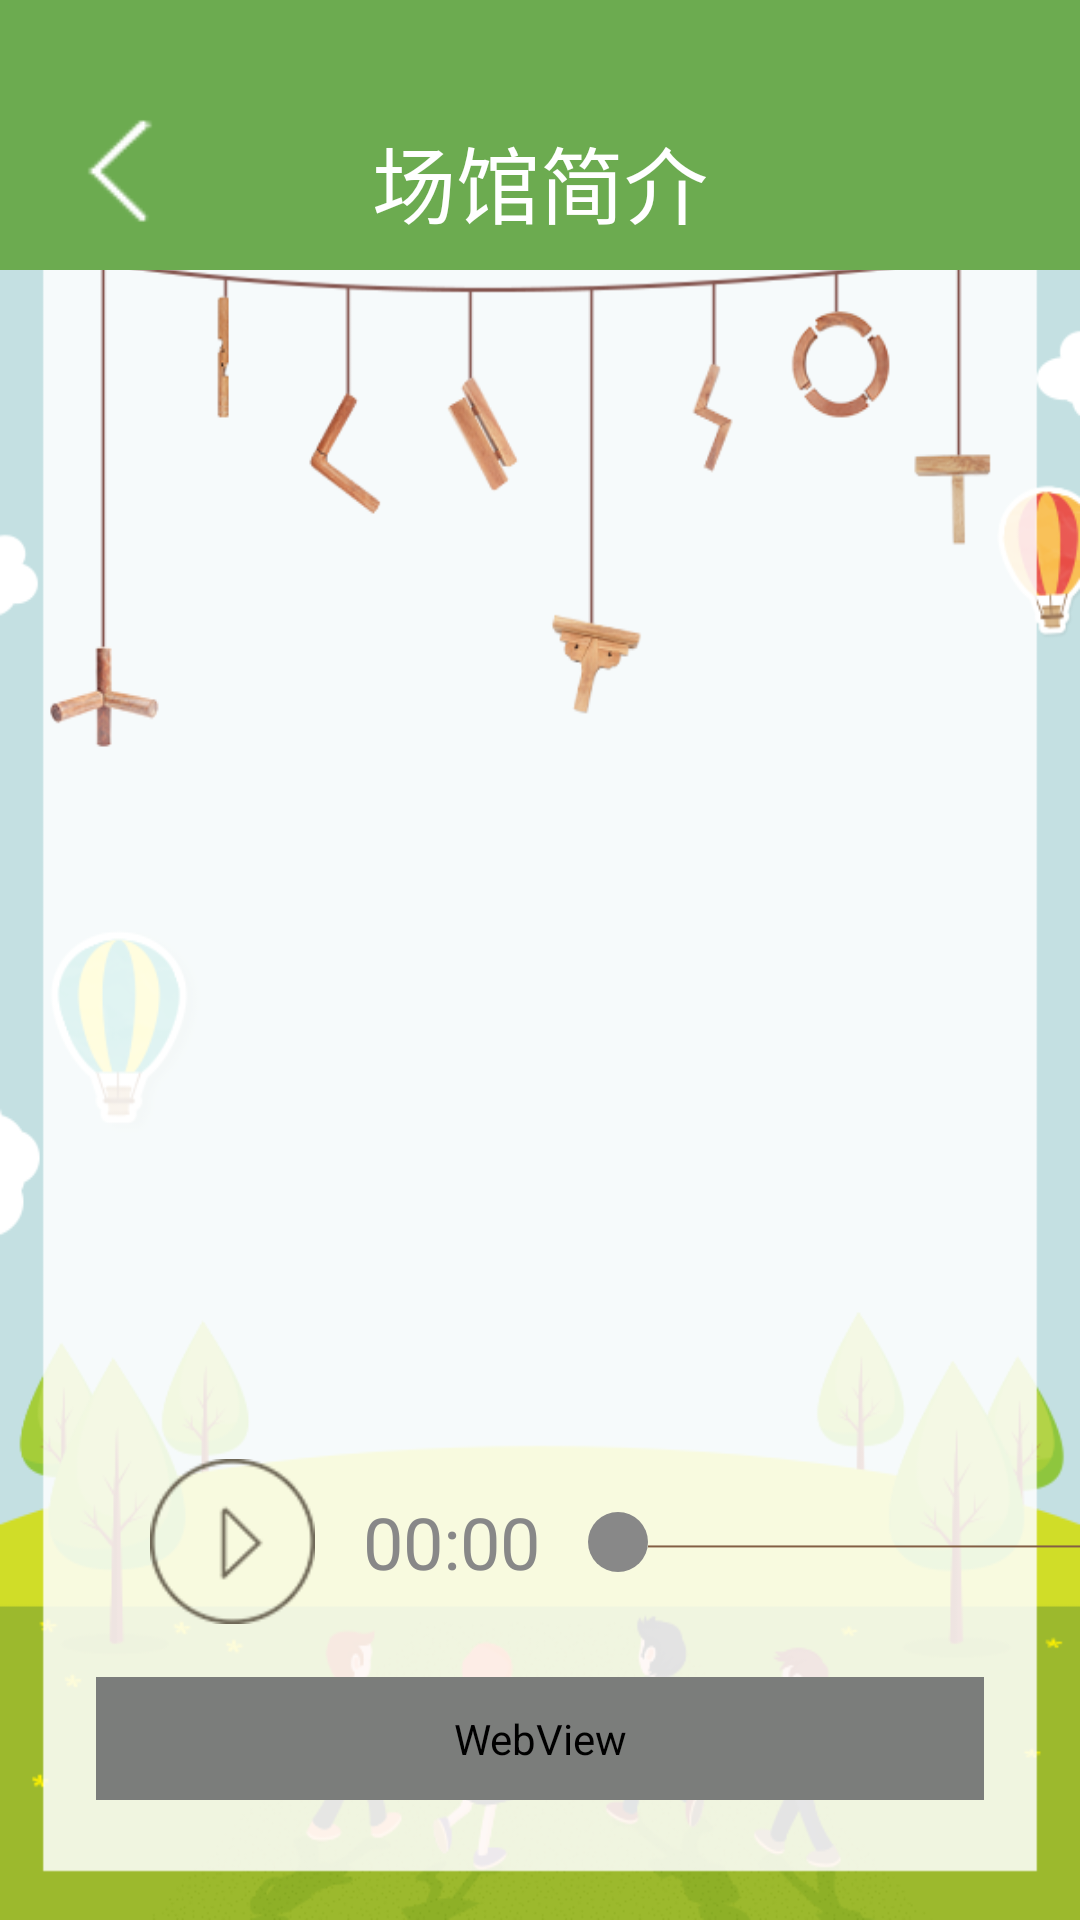

Named icons in this screenshot (1080px x 1920px) and their bounding boxes, (x1, y1, x2, y2):
dao back: (88, 120, 152, 222)
dao play: (150, 1459, 315, 1624)
